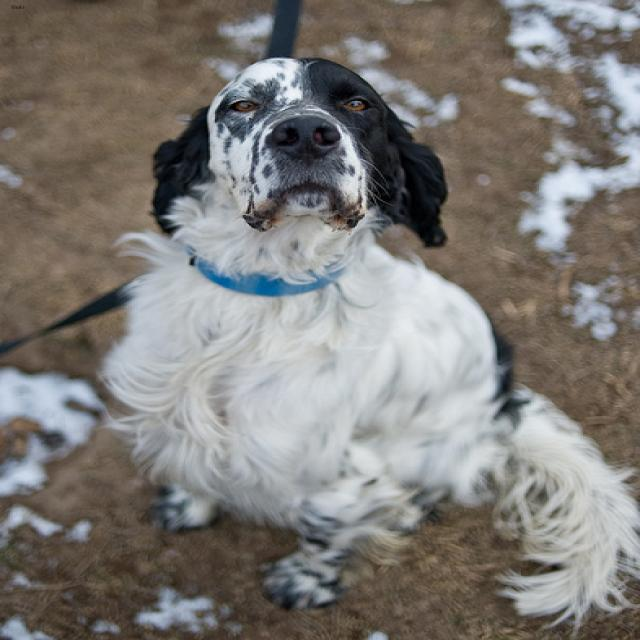dog-english_setter: (93, 44, 637, 637)
